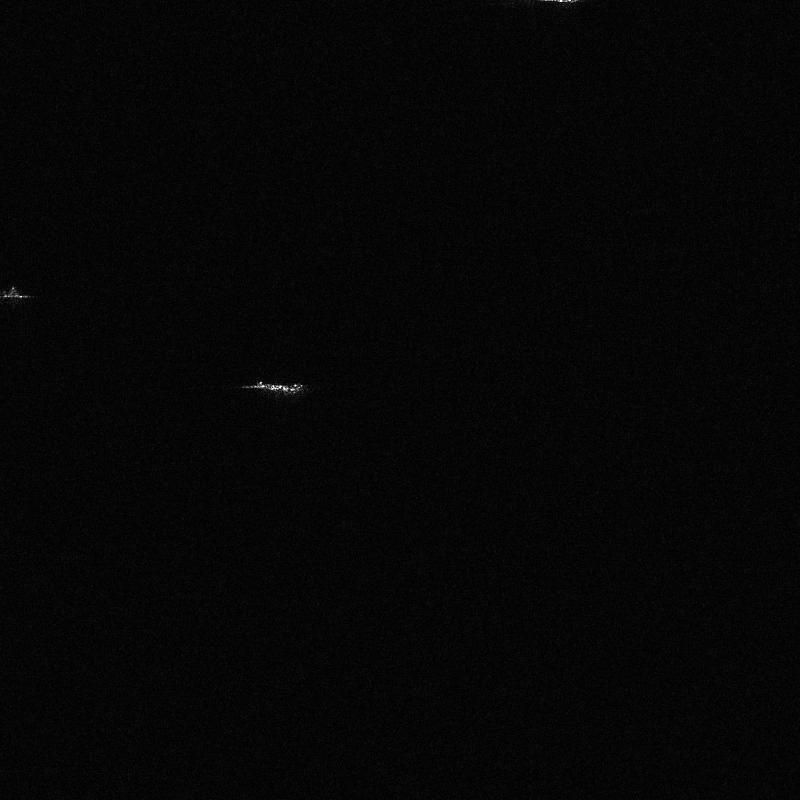ship: (242, 381, 303, 394), (0, 286, 20, 299)
